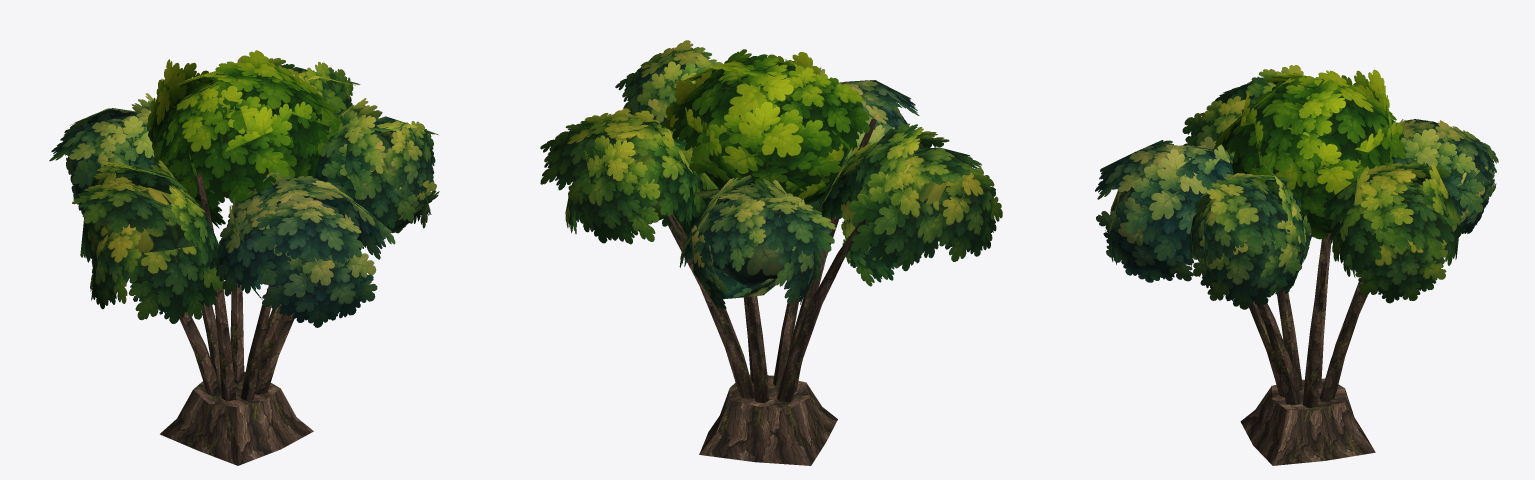
File: tree_hazel.glb
3 renders of one model, left to right at view 1: azimuth 30°, elevation 25°; view 2: azimuth 150°, elevation 25°; view 3: azimuth 270°, elevation 25°, orthographic. The views are drawn at different scales.
Parts seen in each view (by area): view 1: tree_hazel; view 2: tree_hazel; view 3: tree_hazel.
Boxes of the visible parts, bbox=[...] form: tree_hazel: bbox=[49, 50, 439, 465]; tree_hazel: bbox=[540, 40, 1002, 465]; tree_hazel: bbox=[1095, 65, 1498, 465].
Size of the model in its own units: 3.38 by 3.11 by 3.35.
Materials: 2 (2 with a texture image).
